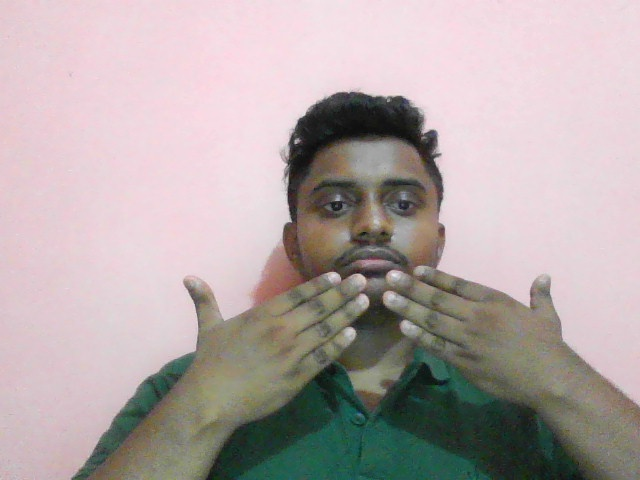Thank You: (147, 261, 598, 425)
